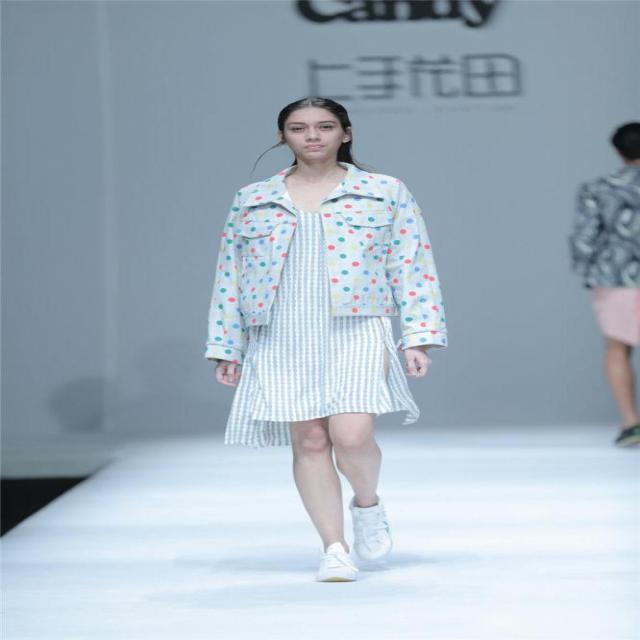Manusia: (219, 97, 446, 573)
